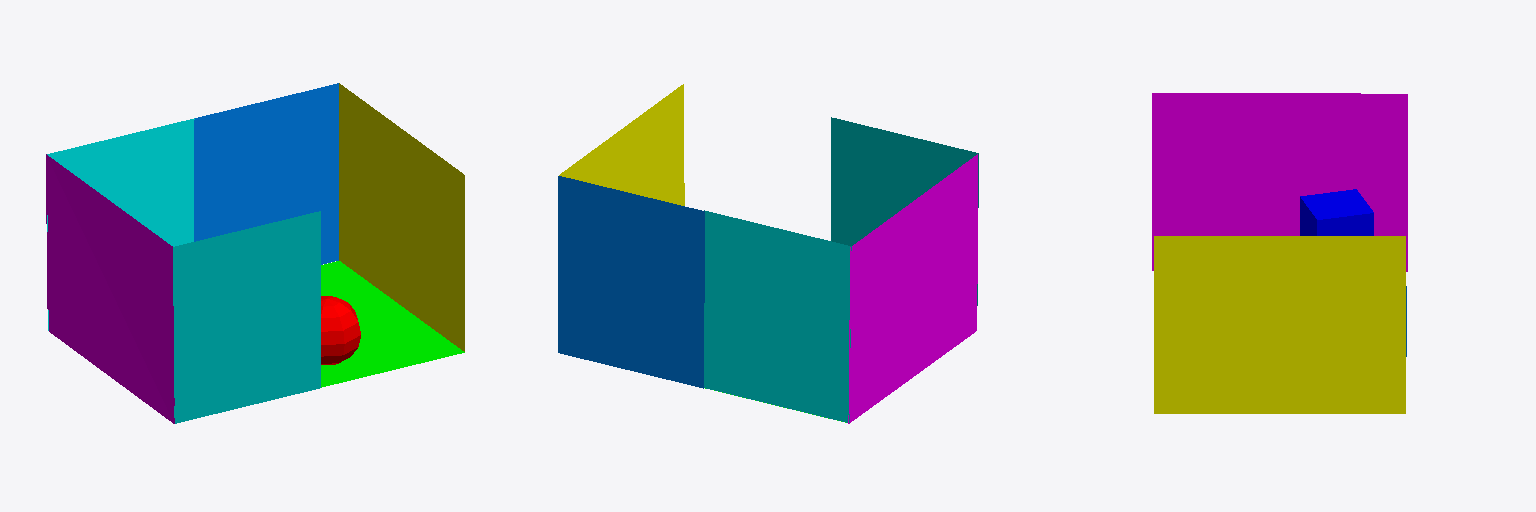
The picture shows the model from 3 angles: view 1: azimuth 30°, elevation 25°; view 2: azimuth 150°, elevation 25°; view 3: azimuth 270°, elevation 25°; orthographic projection.
Parts seen in each view (by area): view 1: GlassWall_back_wall.002, right_wall, left_wall, MirrorWall_back_wall, back_wall_back_wall.001, floor, sphere_spheres; view 2: MirrorWall_back_wall, back_wall_back_wall.001, left_wall, GlassWall_back_wall.002, right_wall; view 3: right_wall, left_wall, tall_box.
Part boxes in pixels (x1,y1,x2,y2): GlassWall_back_wall.002: (173, 211, 320, 423); right_wall: (339, 83, 464, 351); left_wall: (46, 154, 174, 423); MirrorWall_back_wall: (194, 83, 338, 264); back_wall_back_wall.001: (47, 118, 194, 330); floor: (321, 261, 464, 387); sphere_spheres: (321, 296, 360, 364); MirrorWall_back_wall: (558, 176, 704, 388); back_wall_back_wall.001: (704, 210, 851, 422); left_wall: (848, 154, 977, 423); GlassWall_back_wall.002: (831, 117, 978, 305); right_wall: (559, 84, 684, 205); right_wall: (1154, 236, 1405, 413); left_wall: (1152, 93, 1407, 271); tall_box: (1300, 189, 1373, 235).
Size of the model in its own units: 9.52 by 5.67 by 7.18.